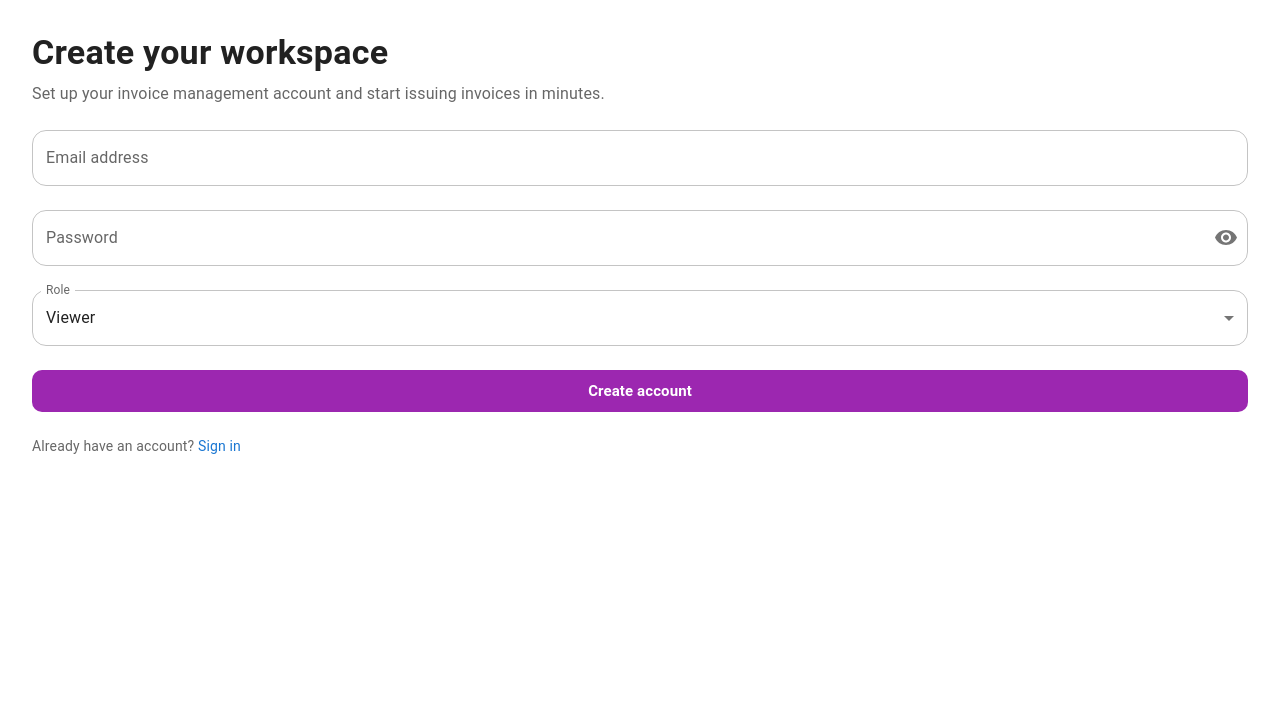
Scenario: Signup page › renders API failure for server-side errors (500)
In the field labelled "Email address": (640, 158) [32,130,1248,186], type "new@invoicepro.com"
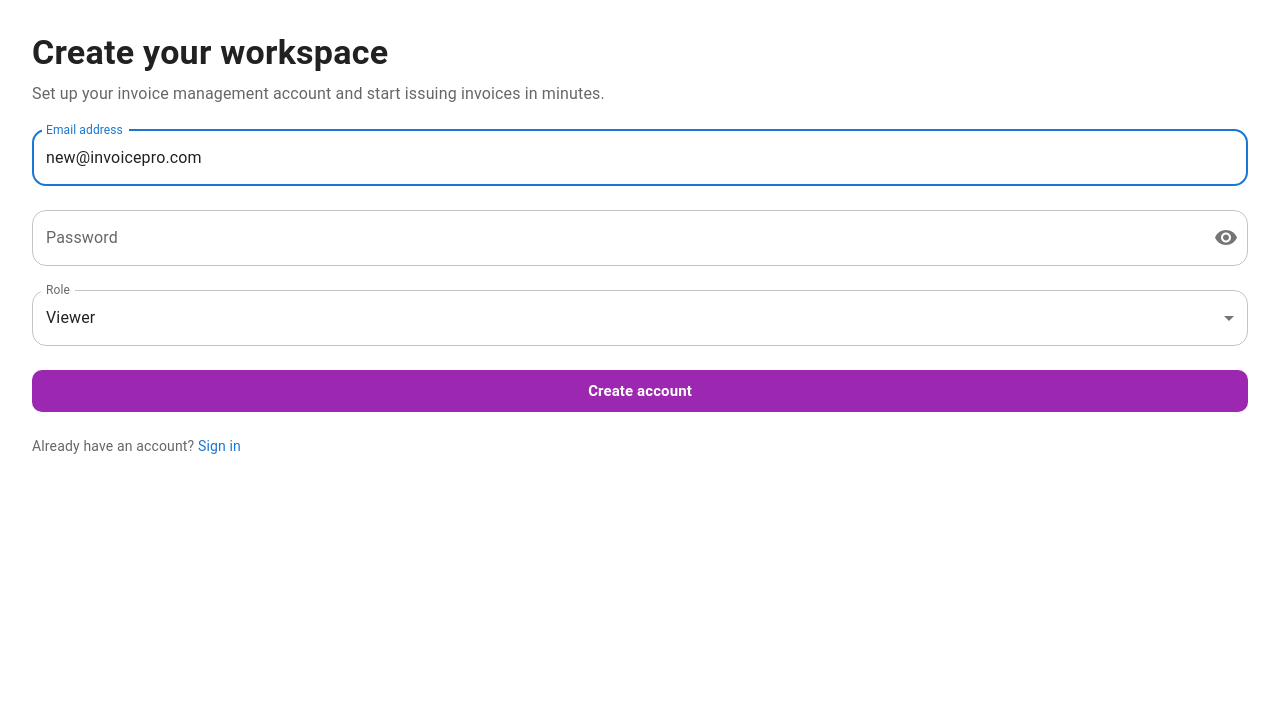
In the password field labelled "Password": (615, 238) [32,210,1198,266], type "password123"
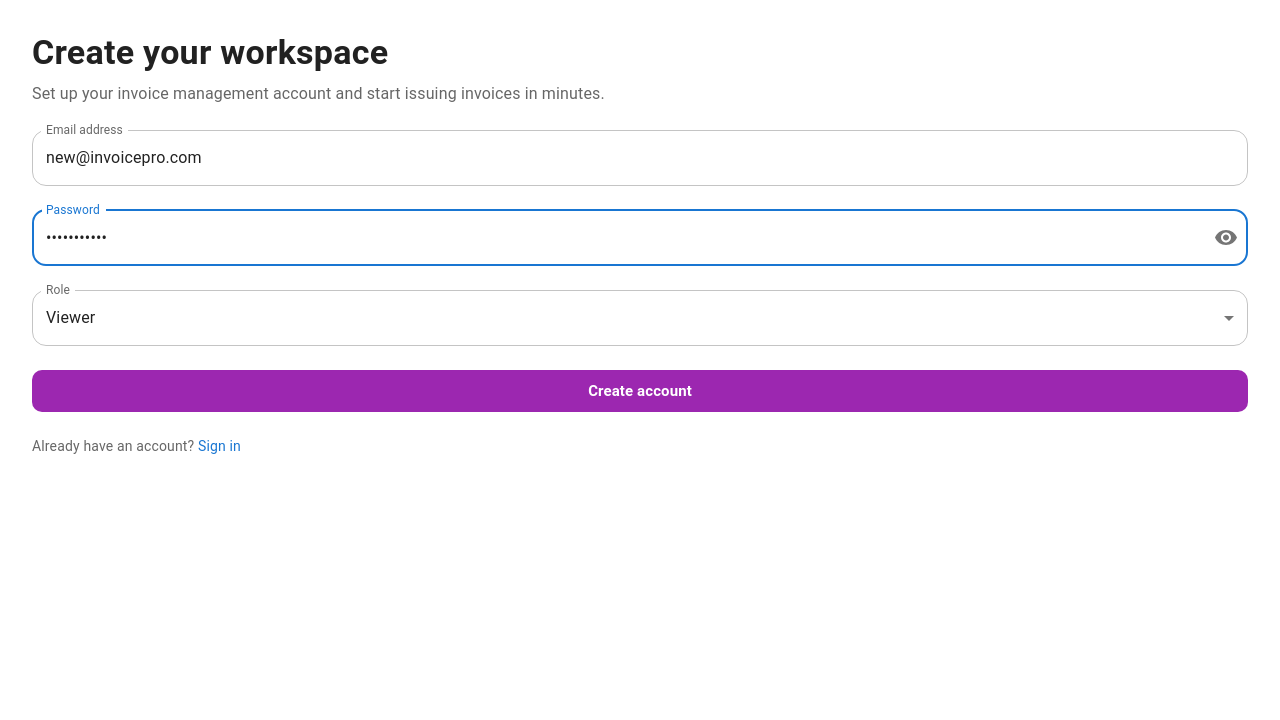
Click the button "Create account": (640, 391) [32,370,1248,412]
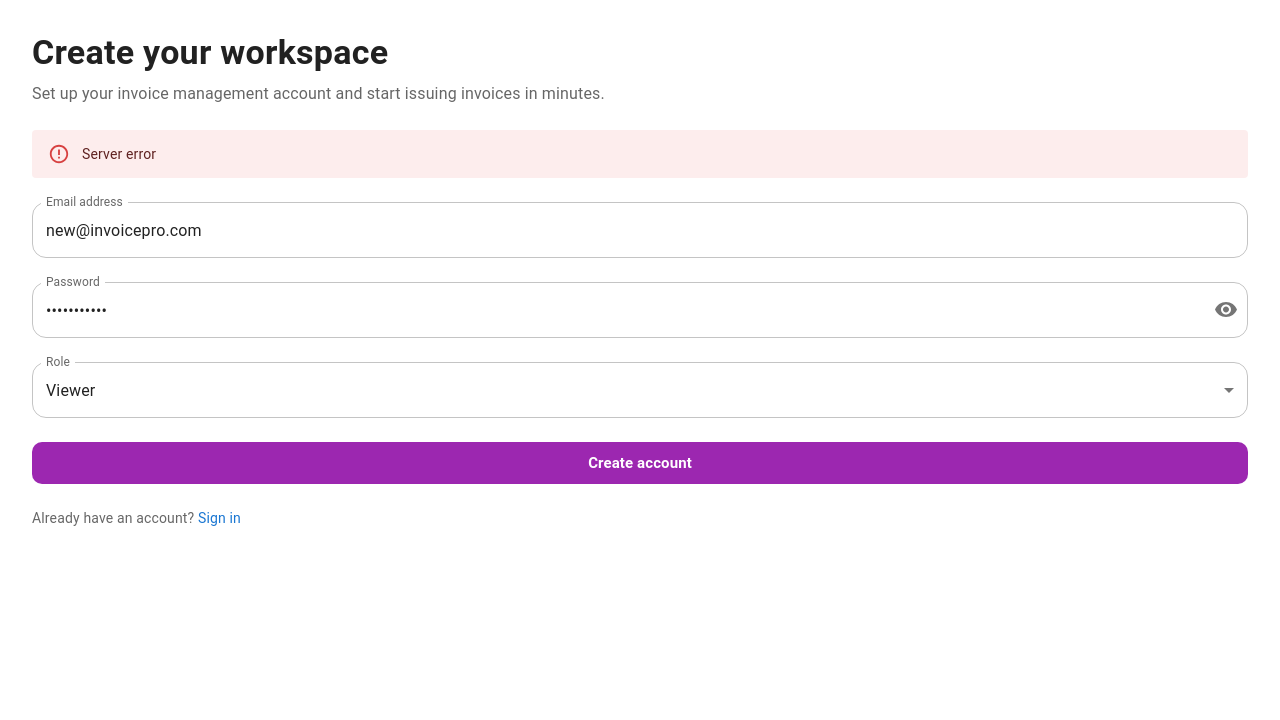
Result: the text "Server error" is shown at [82,146,156,162]
